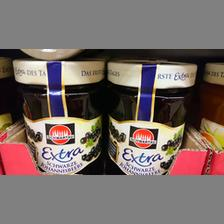Marmelade: (105, 59, 197, 174), (12, 59, 104, 174)
